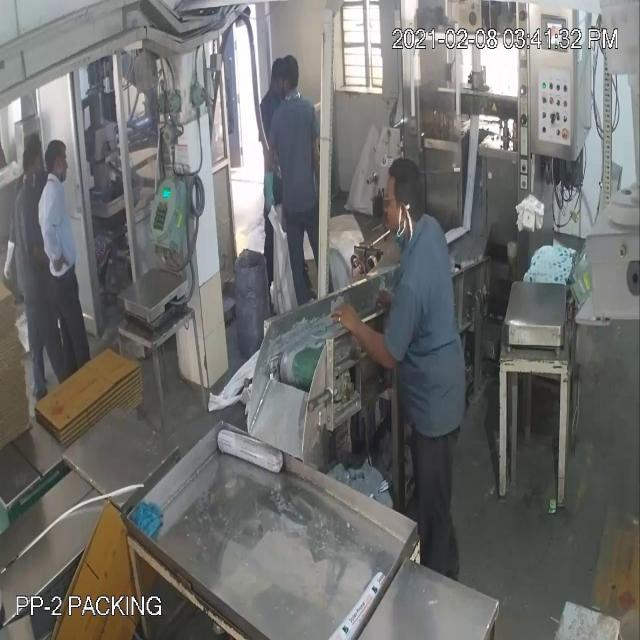No_Gloves: (324, 292, 404, 374)
